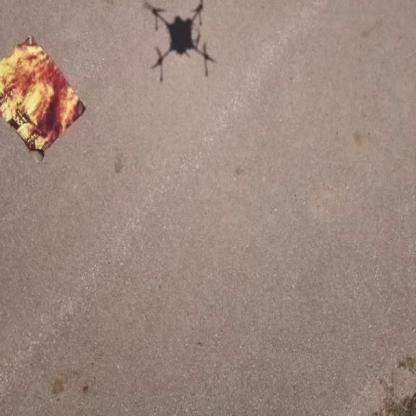fire-poster: (0, 33, 86, 161)
